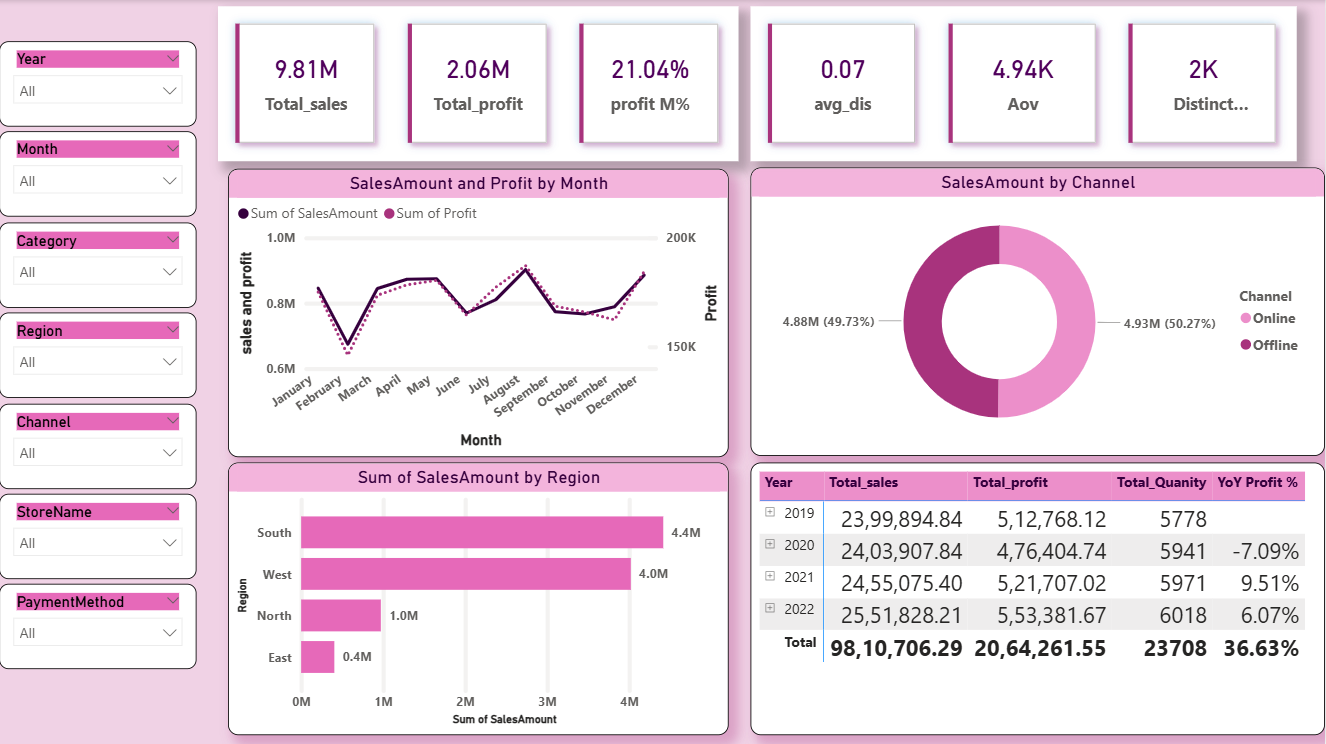

The dashboard page shown, as its layout file describes it:
{"tool":"powerbi","page":{"name":"Summary","canvas":[1280,720],"ordinal":0},"visuals":[{"type":"slicer","fields":{"Values":["DimDate.Date.Variation.Date Hierarchy.Year"]},"box":[1.4,39.8,190.7,82.3],"z":0},{"type":"slicer","fields":{"Values":["DimDate.Date.Variation.Date Hierarchy.Month"]},"box":[1.4,127.2,190.7,82.3],"z":1000},{"type":"slicer","fields":{"Values":["DimProduct.Category"]},"box":[1.4,214.5,190.7,82.3],"z":2000},{"type":"slicer","fields":{"Values":["DimCustomer.Region"]},"box":[1.4,301.9,190.7,82.3],"z":3000},{"type":"slicer","fields":{"Values":["FactSales.Channel"]},"box":[1.4,389.3,190.7,82.3],"z":4000},{"type":"slicer","fields":{"Values":["FactSales.PaymentMethod"]},"box":[1.4,564,190.7,82.3],"z":5000},{"type":"slicer","fields":{"Values":["DimStore.StoreName"]},"box":[1.4,476.6,190.7,82.3],"z":6000},{"type":"cardVisual","fields":{"Data":["measures (2).Total_sales","measures (2).Total_profit","measures (2).profit M%"]},"box":[212.7,5.5,502.2,149.6],"z":7000},{"type":"cardVisual","fields":{"Data":["measures (2).avg_dis","measures (2).Aov","measures (2).Distinct Customers"]},"box":[725.9,5.5,526.9,149.6],"z":8000},{"type":"lineChart","title":" SalesAmount and  Profit by Month","fields":{"Category":["DimDate.Date.Variation.Date Hierarchy.Month"],"Y":["Sum(FactSales.SalesAmount)"],"Y2":["Sum(FactSales.Profit)"]},"box":[222.3,163.3,483,278.6],"z":9000},{"type":"donutChart","title":" SalesAmount by Channel","fields":{"Y":["Sum(FactSales.SalesAmount)"],"Category":["FactSales.Channel"]},"box":[725.9,161.9,554,278.6],"z":10000},{"type":"barChart","fields":{"Category":["DimStore.Region"],"Y":["Sum(FactSales.SalesAmount)"]},"box":[222.3,446,483,263.5],"z":11000},{"type":"pivotTable","fields":{"Rows":["DimDate.Date.Variation.Date Hierarchy.Year","DimStore.City"],"Values":["measures (2).Total_sales","measures (2).Total_profit","measures (2).Total_Quanity","measures (2).YoY Profit %"]},"box":[725.9,446,554.4,263.5],"z":12000}]}

Visuals, with their boxes in screenshot pixels (x1, y1, x2, y2), scaled from the page's 1280x720 canvas onto the 1326x744 screenshot:
slicer - DimDate.Date.Variation.Date Hierarchy.Year: locate(1, 41, 199, 126)
slicer - DimDate.Date.Variation.Date Hierarchy.Month: locate(1, 131, 199, 216)
slicer - DimProduct.Category: locate(1, 222, 199, 307)
slicer - DimCustomer.Region: locate(1, 312, 199, 397)
slicer - FactSales.Channel: locate(1, 402, 199, 487)
slicer - FactSales.PaymentMethod: locate(1, 583, 199, 668)
slicer - DimStore.StoreName: locate(1, 492, 199, 578)
cardVisual - measures (2).Total_sales x measures (2).Total_profit: locate(220, 6, 741, 160)
cardVisual - measures (2).avg_dis x measures (2).Aov: locate(752, 6, 1298, 160)
" SalesAmount and  Profit by Month" lineChart: locate(230, 169, 731, 457)
" SalesAmount by Channel" donutChart: locate(752, 167, 1325, 455)
barChart - DimStore.Region x Sum(FactSales.SalesAmount): locate(230, 461, 731, 733)
pivotTable - DimDate.Date.Variation.Date Hierarchy.Year x DimStore.City: locate(752, 461, 1325, 733)
